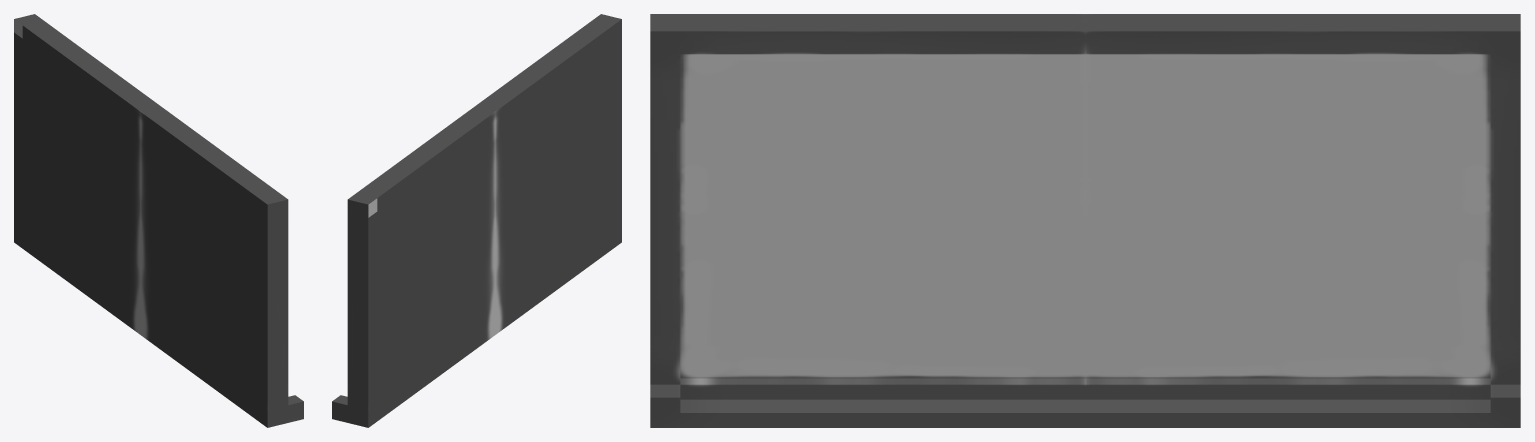
Rendered from White Board.fbx.
The picture shows the model from 3 angles, left to right: view 1: azimuth 30°, elevation 25°; view 2: azimuth 150°, elevation 25°; view 3: azimuth 270°, elevation 25°; orthographic projection. The views are drawn at different scales.
Parts seen in each view (by area): view 1: Cube; view 2: Cube; view 3: Cube.
Boxes of the visible parts, box(x1,y1,x2,y2) form: Cube: box(14, 14, 303, 427); Cube: box(332, 14, 621, 427); Cube: box(650, 14, 1520, 427).
Size of the model in its own units: 61.61 by 361 by 742.
1 material, 1 textured.
